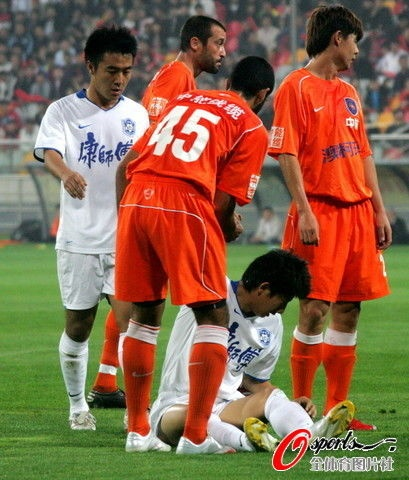falling: (137, 235, 360, 461)
